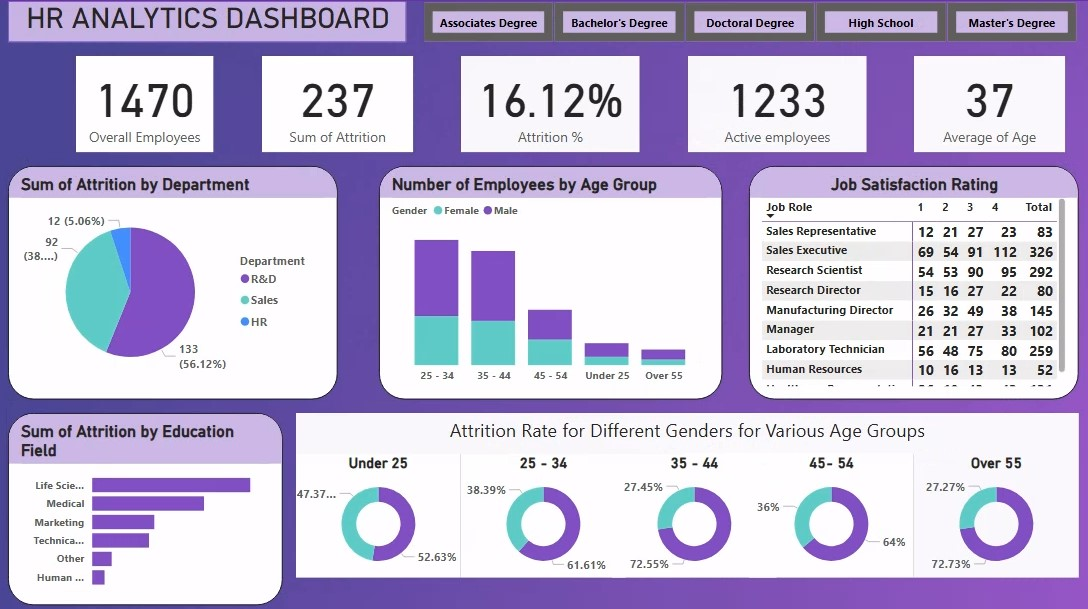

This screenshot's page, from the dashboard's own definition file:
{"tool":"powerbi","page":{"name":"Page 1","canvas":[1280,720],"ordinal":0},"visuals":[{"type":"card","fields":{"Values":["Sum(Table2.employee_count)"]},"box":[96,64,160,112],"z":0},{"type":"card","fields":{"Values":["Sum(Table1.Attrition)"]},"box":[312,64,176,112],"z":1000},{"type":"card","fields":{"Values":["Table1.Attrition %"]},"box":[544,64,208,112],"z":2000},{"type":"card","fields":{"Values":["Table1.Active employees"]},"box":[808,64,208,112],"z":3000},{"type":"card","fields":{"Values":["Avg(Table1.Age)"]},"box":[1072,64,176,112],"z":4000},{"type":"pieChart","fields":{"Category":["Table1.Department"],"Y":["Sum(Table1.Attrition)"]},"box":[16,192,384,272],"z":5000},{"type":"columnChart","title":"Number of Employees by Age Group","fields":{"Category":["Table1.CF_age band"],"Y":["Sum(Table1.Employee Count)"],"Series":["Table1.Gender"]},"box":[448,192,400,272],"z":6000},{"type":"pivotTable","title":"Job Satisfaction Rating","fields":{"Rows":["Table1.Job Role"],"Columns":["Table1.Job Satisfaction"],"Values":["Sum(Table1.Employee Count)"]},"box":[880,192,384,272],"z":7000},{"type":"barChart","fields":{"Category":["Table1.Education Field"],"Y":["Sum(Table1.Attrition)"]},"box":[16,480,320,224],"z":8000},{"type":"textbox","box":[352,480,912,48],"z":9000},{"type":"donutChart","title":"Under 25","fields":{"Category":["Table1.Gender"],"Y":["Sum(Table1.Attrition)"],"Series":["Table1.CF_age band"]},"box":[352,528,192,144],"z":10000},{"type":"textbox","title":"HR ANALYTICS DASHBOARD","box":[16,0,464,48],"z":11000},{"type":"slicer","fields":{"Values":["Table1.Education"]},"box":[480,0,800,48],"z":12000},{"type":"donutChart","title":"25 - 34","fields":{"Category":["Table1.Gender"],"Y":["Sum(Table1.Attrition)"],"Series":["Table1.CF_age band"]},"box":[544,528,192,144],"z":13000},{"type":"donutChart","title":"35 - 44","fields":{"Category":["Table1.Gender"],"Y":["Sum(Table1.Attrition)"],"Series":["Table1.CF_age band"]},"box":[720,528,192,144],"z":14000},{"type":"donutChart","title":"45-  54","fields":{"Category":["Table1.Gender"],"Y":["Sum(Table1.Attrition)"],"Series":["Table1.CF_age band"]},"box":[880,528,192,144],"z":15000},{"type":"donutChart","title":"Over 55","fields":{"Category":["Table1.Gender"],"Y":["Sum(Table1.Attrition)"],"Series":["Table1.CF_age band"]},"box":[1072,528,192,144],"z":16000}]}

Visuals, with their boxes in screenshot pixels (x1, y1, x2, y2), scaled from the page's 1280x720 canvas onto the 1088x609 screenshot:
card - Sum(Table2.employee_count): Rect(82, 54, 218, 149)
card - Sum(Table1.Attrition): Rect(265, 54, 415, 149)
card - Table1.Attrition %: Rect(462, 54, 639, 149)
card - Table1.Active employees: Rect(687, 54, 864, 149)
card - Avg(Table1.Age): Rect(911, 54, 1061, 149)
pieChart - Table1.Department x Sum(Table1.Attrition): Rect(14, 162, 340, 392)
"Number of Employees by Age Group" columnChart: Rect(381, 162, 721, 392)
"Job Satisfaction Rating" pivotTable: Rect(748, 162, 1074, 392)
barChart - Table1.Education Field x Sum(Table1.Attrition): Rect(14, 406, 286, 595)
textbox: Rect(299, 406, 1074, 447)
"Under 25" donutChart: Rect(299, 447, 462, 568)
"HR ANALYTICS DASHBOARD" textbox: Rect(14, 0, 408, 41)
slicer - Table1.Education: Rect(408, 0, 1087, 41)
"25 - 34" donutChart: Rect(462, 447, 626, 568)
"35 - 44" donutChart: Rect(612, 447, 775, 568)
"45-  54" donutChart: Rect(748, 447, 911, 568)
"Over 55" donutChart: Rect(911, 447, 1074, 568)
